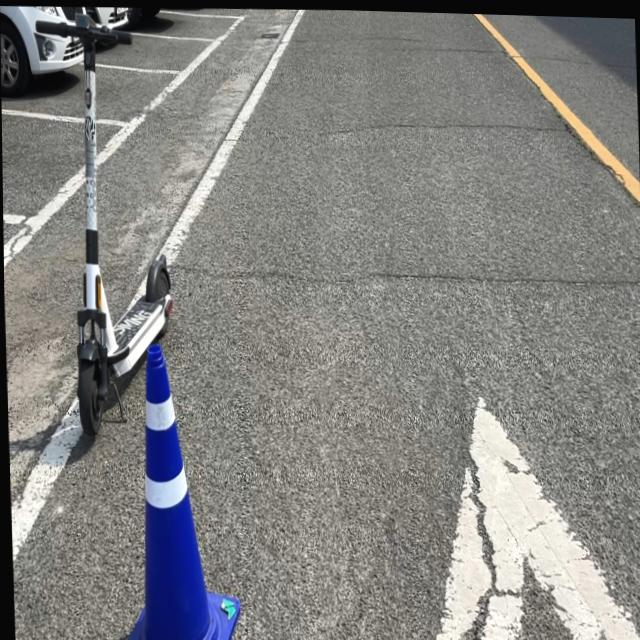b_rub: (126, 343, 237, 640)
